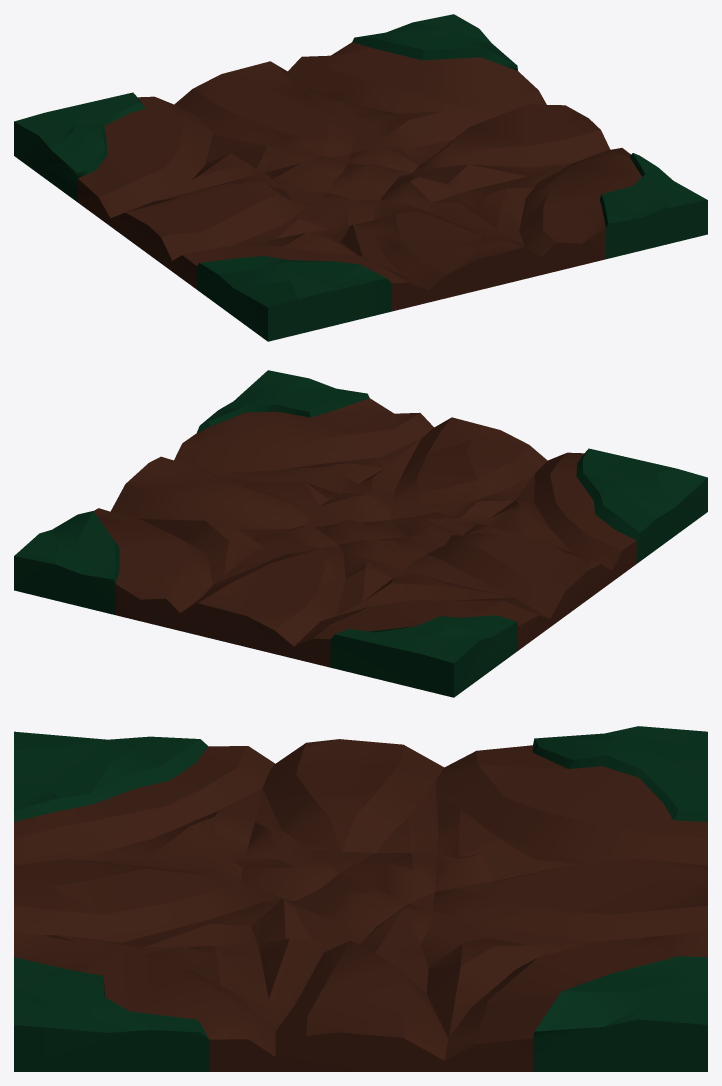
Rendered from Ground_Road_Crossroads.fbx.
3 views of the same model, one above another, from view 1: azimuth 30°, elevation 25°; view 2: azimuth 150°, elevation 25°; view 3: azimuth 270°, elevation 25° (orthographic). The views are drawn at different scales.
Parts seen in each view (by area): view 1: Ground_Road_Crossroads; view 2: Ground_Road_Crossroads; view 3: Ground_Road_Crossroads.
Part boxes in pixels (box(x1,y1,x2,y2)): Ground_Road_Crossroads: box(14, 14, 707, 341); Ground_Road_Crossroads: box(14, 370, 707, 697); Ground_Road_Crossroads: box(14, 726, 707, 1071).
Size of the model in its own units: 147 by 14.83 by 147.
